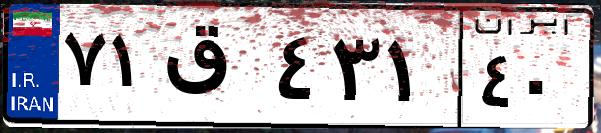0: (525, 38, 570, 115)
1: (385, 28, 445, 110), (110, 28, 158, 98)
3: (330, 28, 385, 110)
4: (270, 28, 330, 110), (475, 38, 525, 113)
7: (57, 26, 110, 100)
ق: (158, 20, 270, 120)
